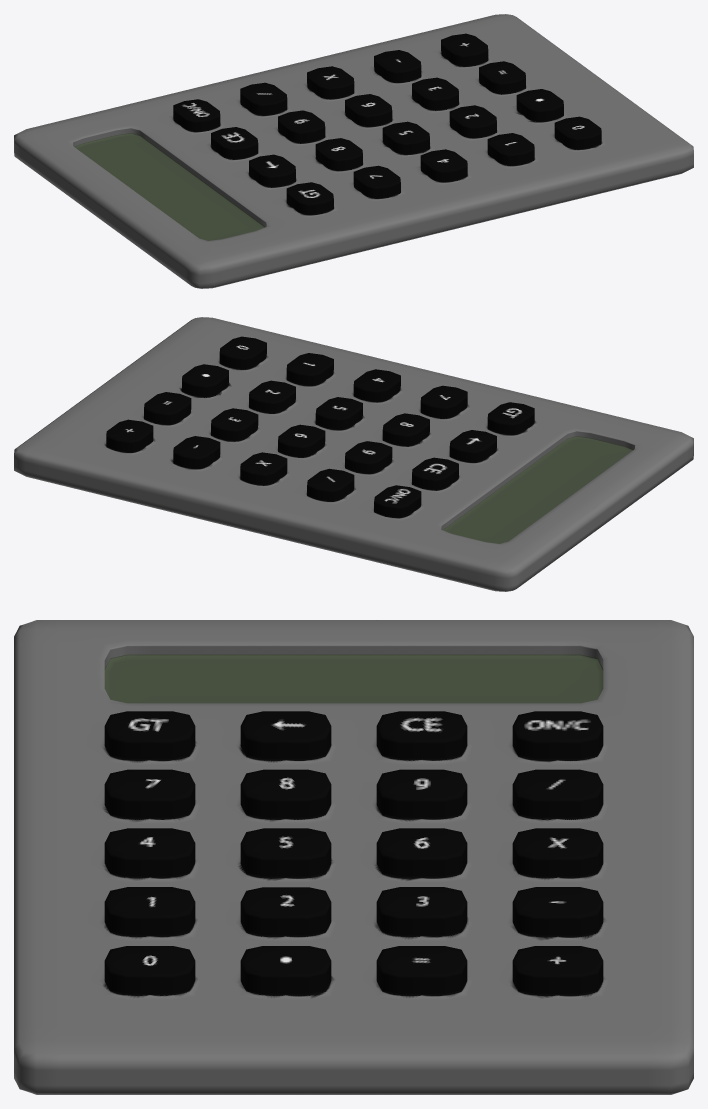
Rendered from calculator.fbx.
The picture shows the model from 3 angles, top to bottom: view 1: azimuth 30°, elevation 25°; view 2: azimuth 150°, elevation 25°; view 3: azimuth 270°, elevation 25°; orthographic projection. The views are drawn at different scales.
Parts seen in each view (by area): view 1: pCube2; view 2: pCube2; view 3: pCube2.
Boxes of the visible parts, x1=… form: pCube2: x1=14, y1=14, x2=693, y2=288; pCube2: x1=14, y1=317, x2=693, y2=591; pCube2: x1=14, y1=620, x2=693, y2=1094.
Size of the model in its own units: 40.96 by 2.89 by 26.71.
